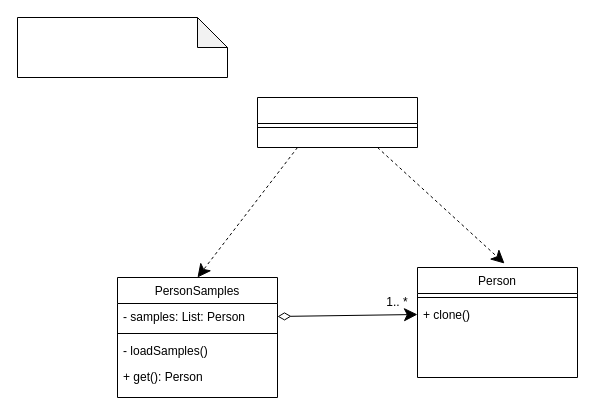
The diagram is 595 pixels wide and 415 high, and some of its shapes have lost their labels. The centre of each missing label's shape, as x and y in pixels:
"Client" belongs at point (337, 122).
"Prototype Animation" belongs at point (122, 47).
